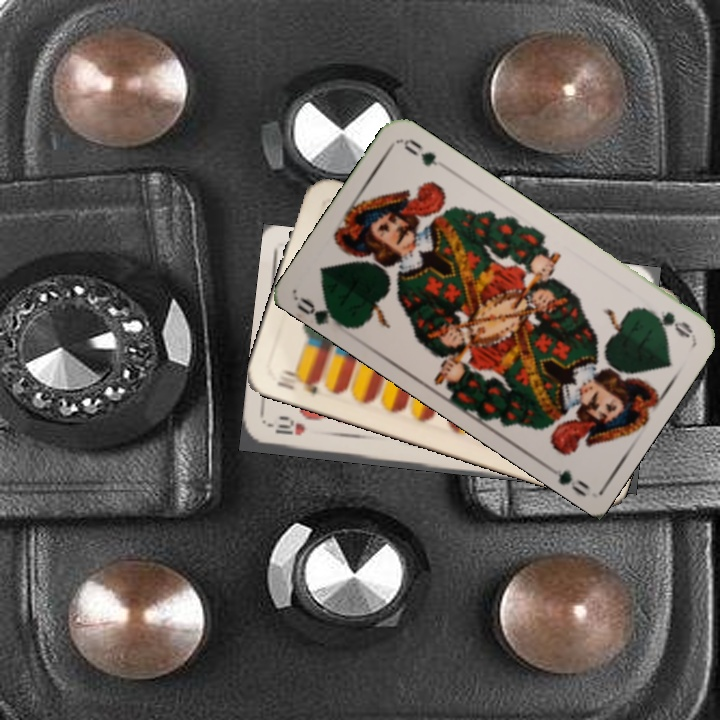E10: (273, 365, 323, 397)
GO: (294, 293, 349, 331), (640, 304, 696, 341)
H10: (266, 419, 307, 439)
